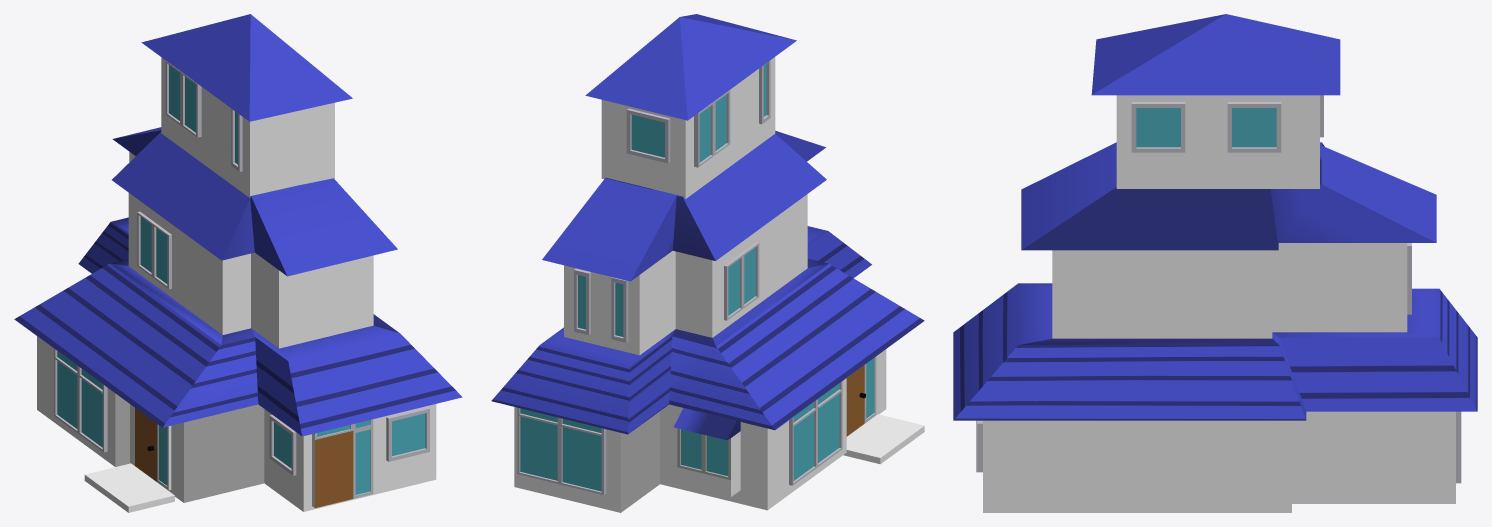
File: Big_House_P.fbx
The picture shows the model from 3 angles, left to right: view 1: azimuth 30°, elevation 25°; view 2: azimuth 150°, elevation 25°; view 3: azimuth 270°, elevation 25°; orthographic projection. The views are drawn at different scales.
Parts seen in each view (by area): view 1: House_Big_P__LOD0; view 2: House_Big_P__LOD0; view 3: House_Big_P__LOD0.
Part boxes in pixels (x1=…): House_Big_P__LOD0: x1=14, y1=14, x2=462, y2=512; House_Big_P__LOD0: x1=491, y1=14, x2=924, y2=512; House_Big_P__LOD0: x1=953, y1=14, x2=1477, y2=512.
Size of what is drawn, in the model's own units: 5.42 by 7.78 by 8.
